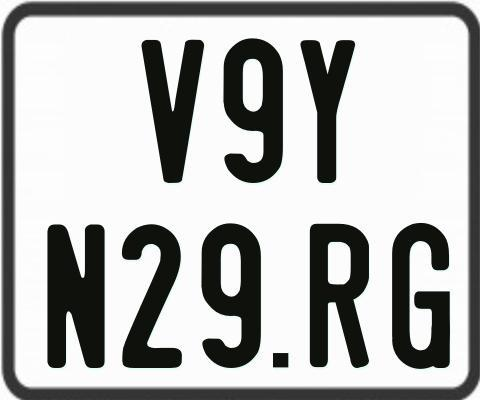2: (120, 221, 186, 367)
9: (198, 223, 261, 374), (223, 38, 284, 187)
G: (392, 222, 452, 368)
N: (45, 224, 108, 370)
R: (307, 223, 368, 370)
V: (141, 38, 208, 186)
Y: (298, 40, 356, 184)
